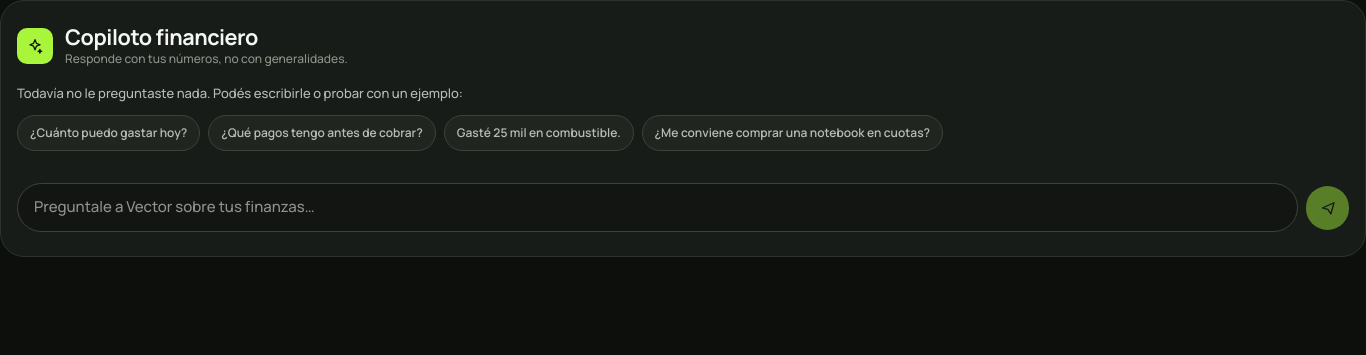
Test: copiloto: aviso de cuota › el aviso no es una burbuja de conversación ni queda en el historial
The width and height of the screenshot is (1366, 355).
Click the button "¿Cuánto puedo gastar hoy?". click: [109, 133]
box: [17, 115, 200, 151]
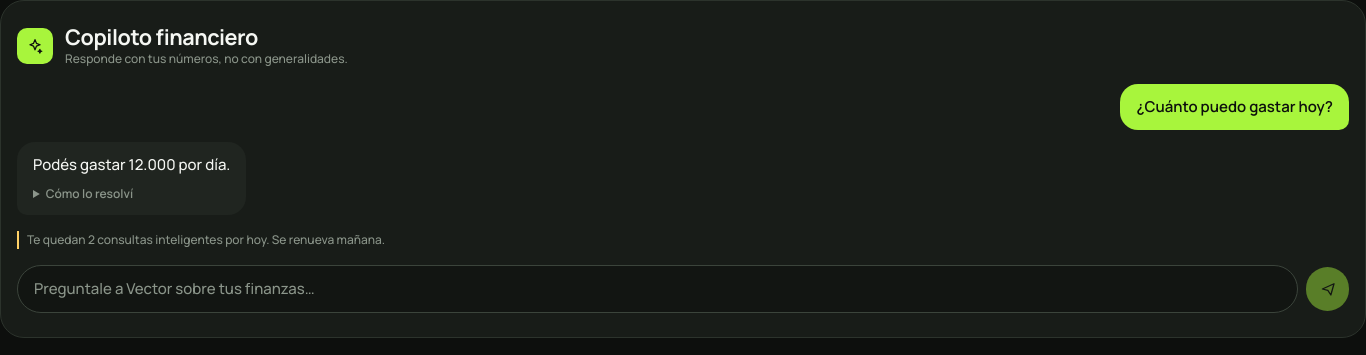
Result: the text "Podés gastar 12.000 por día." is shown at [33, 154, 230, 177]
